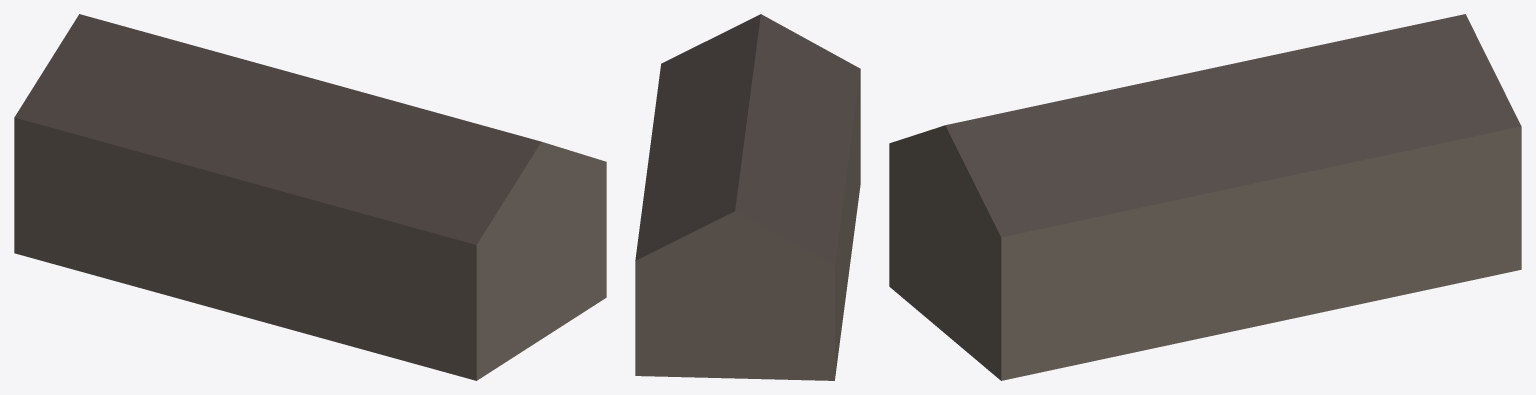
The picture shows the model from 3 angles, left to right: view 1: azimuth 30°, elevation 25°; view 2: azimuth 150°, elevation 25°; view 3: azimuth 270°, elevation 25°; orthographic projection. The views are drawn at different scales.
Visible parts, largest first — view 1: HP-w369237841; view 2: HP-w369237841; view 3: HP-w369237841.
Part boxes in pixels (bbox=[...]): HP-w369237841: bbox=[14, 14, 606, 380]; HP-w369237841: bbox=[635, 14, 860, 380]; HP-w369237841: bbox=[889, 14, 1521, 380].
Bounding box in the file's own units: 18.43 × 8.73 × 23.96.
